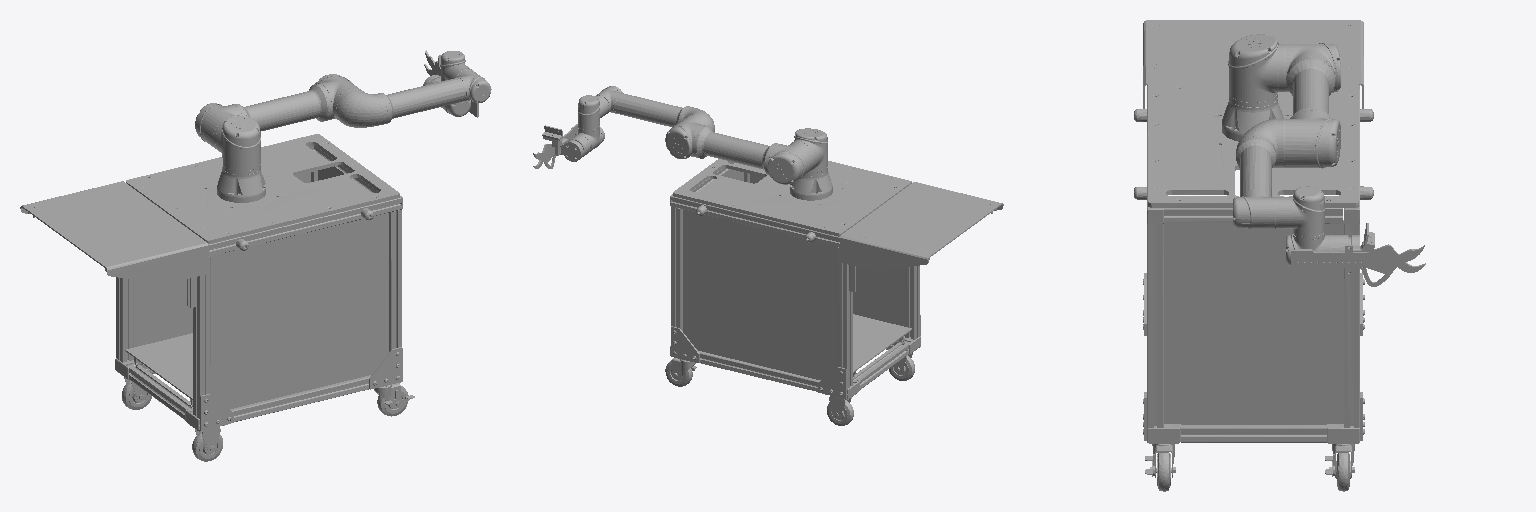
The robot description file, URDF, robot "ur5e":
<?xml version="1.0" ?>
<!-- =================================================================================== -->
<!-- |    This document was autogenerated by xacro from [local-path]/catkin_ws/src/fmauch_universal_robot/ur_e_description/urdf/ur5e_robot.urdf.xacro | -->
<!-- |    EDITING THIS FILE BY HAND IS NOT RECOMMENDED                                 | -->
<!-- =================================================================================== -->
<robot name="ur5e" xmlns:xacro="http://ros.org/wiki/xacro">
  <gazebo>
    <plugin filename="libgazebo_ros_control.so" name="ros_control">
      <!--robotNamespace>/</robotNamespace-->
      <!--robotSimType>gazebo_ros_control/DefaultRobotHWSim</robotSimType-->
    </plugin>
    <!--
    <plugin name="gazebo_ros_power_monitor_controller" filename="libgazebo_ros_power_monitor.so">
      <alwaysOn>true</alwaysOn>
      <updateRate>1.0</updateRate>
      <timeout>5</timeout>
      <powerStateTopic>power_state</powerStateTopic>
      <powerStateRate>10.0</powerStateRate>
      <fullChargeCapacity>87.78</fullChargeCapacity>
      <dischargeRate>-474</dischargeRate>
      <chargeRate>525</chargeRate>
      <dischargeVoltage>15.52</dischargeVoltage>
      <chargeVoltage>16.41</chargeVoltage>
    </plugin>
-->
  </gazebo>
  <!-- measured from model -->
  <!-- link lengths used in model -->
  <!-- manually measured -->
  <link name="mount_base"/>
  <joint name="y_gantry" type="fixed">
    <parent link="mount_base"/>
    <child link="mount"/>
    <origin rpy="0.0 0.0 0.0" xyz="0.0 0.0 0.0"/>
    <axis xyz="0 1 0"/>
    <limit effort="330.0" lower="-0.25" upper="0.25" velocity="0.2"/>
    <dynamics damping="0.0" friction="0.0"/>
  </joint>
  <link name="mount">
    <visual>
<!--	  <origin rpy="0.0 0.0 0.0" xyz="-0.02 0.0 0.0"/>-->
	  <origin rpy="0.0 0.0 0.0" xyz="0 0.0 0.0"/>
      <geometry>
        <mesh filename="ur5e/visual/robot_cart.obj"/>
      </geometry>
      <material name="LightGrey">
        <color rgba="0.7 0.7 0.7 1.0"/>
      </material>
      <material name="LightGrey">
        <color rgba="0.7 0.7 0.7 1.0"/>
      </material>
    </visual>
    <collision>
<!--	  <origin rpy="0.0 0.0 0.0" xyz="-0.02 0.0 0.0"/>-->
	  <origin rpy="0.0 0.0 0.0" xyz="0 0.0 -0.3786"/>
      <geometry>
<!--        <box size="0.04 0.5 0.5"/>-->
        <box size="0.5 0.5 0.75711"/>
      </geometry>
    </collision>
    <inertial>
      <mass value="4.0"/>
      <origin rpy="0 0 0" xyz="0.0 0.0 0.0"/>
      <inertia ixx="0.006106" ixy="0.0" ixz="0.0" iyy="0.006106" iyz="0.0" izz="0.01125"/>
    </inertial>
  </link>
  <joint name="mount_base_joint" type="fixed">
    <parent link="mount"/>
    <child link="base_link"/>
<!--    <origin rpy="0.0 1.570796 0.0" xyz="0.0 0.0 0.0"/>-->
    <origin rpy="0.0 0.0 -1.5708" xyz="0.0 0.0 0.0"/>
    <axis xyz="0 0 1"/>
  </joint>
  <link name="base_link">
    <visual>
      <origin rpy="0 0 3.14159265359" xyz="0 0 0"/>
      <geometry>
        <mesh filename="ur5e/visual/base.dae"/>
      </geometry>
      <material name="LightGrey">
        <color rgba="0.7 0.7 0.7 1.0"/>
      </material>
    </visual>
    <collision>
      <origin rpy="0 0 3.14159265359" xyz="0 0 0"/>
      <geometry>
        <mesh filename="ur5e/collision/base.stl"/>
      </geometry>
    </collision>
    <inertial>
      <mass value="4.0"/>
      <origin rpy="0 0 0" xyz="0.0 0.0 0.0"/>
      <inertia ixx="0.00443333156" ixy="0.0" ixz="0.0" iyy="0.00443333156" iyz="0.0" izz="0.0072"/>
    </inertial>
  </link>
  <joint name="shoulder_pan_joint" type="revolute">
    <parent link="base_link"/>
    <child link="shoulder_link"/>
    <origin rpy="0 0 3.14159265774" xyz="0 0 0.162509611124"/>
    <axis xyz="0 0 1"/>
    <limit effort="150.0" lower="-6.28318530718" upper="6.28318530718" velocity="3.14"/>
    <dynamics damping="0.0" friction="0.0"/>
  </joint>
  <link name="shoulder_link">
    <visual>
      <origin rpy="0 0 3.14159265359" xyz="0 0 0"/>
      <geometry>
        <mesh filename="ur5e/visual/shoulder.dae"/>
      </geometry>
      <material name="LightGrey">
        <color rgba="0.7 0.7 0.7 1.0"/>
      </material>
    </visual>
    <collision>
      <origin rpy="0 0 3.14159265359" xyz="0 0 0"/>
      <geometry>
        <mesh filename="ur5e/collision/shoulder.stl"/>
      </geometry>
    </collision>
    <inertial>
      <mass value="3.7"/>
      <origin rpy="0 0 0" xyz="0.0 0.0 0.0"/>
      <inertia ixx="0.010267495893" ixy="0.0" ixz="0.0" iyy="0.010267495893" iyz="0.0" izz="0.00666"/>
    </inertial>
  </link>
  <joint name="shoulder_lift_joint" type="revolute">
    <parent link="shoulder_link"/>
    <child link="upper_arm_link"/>
    <origin rpy="1.57201212277 0 -4.22293331334e-06" xyz="0.000175875481034 0 0"/>
    <axis xyz="0 0 1"/>
    <limit effort="150.0" lower="-6.28318530718" upper="6.28318530718" velocity="3.14"/>
    <dynamics damping="0.0" friction="0.0"/>
  </joint>
  <link name="upper_arm_link">
    <visual>
      <origin rpy="1.57079632679 0 -1.57079632679" xyz="0 0 0.138"/>
      <geometry>
        <mesh filename="ur5e/visual/upperarm.dae"/>
      </geometry>
      <material name="LightGrey">
        <color rgba="0.7 0.7 0.7 1.0"/>
      </material>
    </visual>
    <collision>
      <origin rpy="1.57079632679 0 -1.57079632679" xyz="0 0 0.138"/>
      <geometry>
        <mesh filename="ur5e/collision/upperarm.stl"/>
      </geometry>
    </collision>
    <inertial>
      <mass value="8.393"/>
      <origin rpy="0 1.57079632679 0" xyz="-0.212641211079 0.0 0.138"/>
      <inertia ixx="0.138302693282" ixy="0.0" ixz="0.0" iyy="0.138302693282" iyz="0.0" izz="0.0236053125"/>
    </inertial>
  </link>
  <joint name="elbow_joint" type="revolute">
    <parent link="upper_arm_link"/>
    <child link="forearm_link"/>
    <origin rpy="3.14087106174 3.14130791395 -3.1415908958" xyz="-0.425282422158 0 0"/>
    <axis xyz="0 0 1"/>
    <limit effort="150.0" lower="-3.14159265359" upper="3.14159265359" velocity="3.14"/>
    <dynamics damping="0.0" friction="0.0"/>
  </joint>
  <link name="forearm_link">
    <visual>
      <origin rpy="1.57079632679 0 -1.57079632679" xyz="0 0 0.007"/>
      <geometry>
        <mesh filename="ur5e/visual/forearm.dae"/>
      </geometry>
      <material name="LightGrey">
        <color rgba="0.7 0.7 0.7 1.0"/>
      </material>
    </visual>
    <collision>
      <origin rpy="1.57079632679 0 -1.57079632679" xyz="0 0 0.007"/>
      <geometry>
        <mesh filename="ur5e/collision/forearm.stl"/>
      </geometry>
    </collision>
    <inertial>
      <mass value="2.275"/>
      <origin rpy="0 1.57079632679 0" xyz="-0.212641211079 0.0 0.007"/>
      <inertia ixx="0.032394493594" ixy="0.0" ixz="0.0" iyy="0.032394493594" iyz="0.0" izz="0.0063984375"/>
    </inertial>
  </link>
  <joint name="wrist_1_joint" type="revolute">
    <parent link="forearm_link"/>
    <child link="wrist_1_link"/>
    <origin rpy="3.13857728923 -3.14158422042 3.14159213673" xyz="-0.392424671078 0.000403177258085 0.13370723674"/>
    <axis xyz="0 0 1"/>
    <limit effort="28.0" lower="-6.28318530718" upper="6.28318530718" velocity="6.28"/>
    <dynamics damping="0.0" friction="0.0"/>
  </joint>
  <link name="wrist_1_link">
    <visual>
      <origin rpy="1.57079632679 0 0" xyz="0 0 -0.127"/>
      <geometry>
        <mesh filename="ur5e/visual/wrist1.dae"/>
      </geometry>
      <material name="LightGrey">
        <color rgba="0.7 0.7 0.7 1.0"/>
      </material>
    </visual>
    <collision>
      <origin rpy="1.57079632679 0 0" xyz="0 0 -0.127"/>
      <geometry>
        <mesh filename="ur5e/collision/wrist1.stl"/>
      </geometry>
    </collision>
    <inertial>
      <mass value="1.219"/>
      <origin rpy="0 0 0" xyz="0.0 0.0 0.0"/>
      <inertia ixx="0.00272544945219" ixy="0.0" ixz="0.0" iyy="0.00272544945219" iyz="0.0" izz="0.0034284375"/>
    </inertial>
  </link>
  <joint name="wrist_2_joint" type="revolute">
    <parent link="wrist_1_link"/>
    <child link="wrist_2_link"/>
    <origin rpy="1.57047823229 0 -1.22657964634e-06" xyz="-3.59538768323e-05 -0.0997732519853 3.17373243326e-05"/>
    <axis xyz="0 0 1"/>
    <limit effort="28.0" lower="-6.28318530718" upper="6.28318530718" velocity="6.28"/>
    <dynamics damping="0.0" friction="0.0"/>
  </joint>
  <link name="wrist_2_link">
    <visual>
      <origin rpy="0 0 0" xyz="0 0 -0.0997"/>
      <geometry>
        <mesh filename="ur5e/visual/wrist2.dae"/>
      </geometry>
      <material name="LightGrey">
        <color rgba="0.7 0.7 0.7 1.0"/>
      </material>
    </visual>
    <collision>
      <origin rpy="0 0 0" xyz="0 0 -0.0997"/>
      <geometry>
        <mesh filename="ur5e/collision/wrist2.stl"/>
      </geometry>
    </collision>
    <inertial>
      <mass value="1.219"/>
      <origin rpy="0 0 0" xyz="0.0 0.0 0.0"/>
      <inertia ixx="0.00271885242747" ixy="0.0" ixz="0.0" iyy="0.00271885242747" iyz="0.0" izz="0.0034284375"/>
    </inertial>
  </link>
  <joint name="wrist_3_joint" type="revolute">
    <parent link="wrist_2_link"/>
    <child link="wrist_3_link"/>
    <origin rpy="1.57172710837 3.14159265359 3.14159251741" xyz="5.59741171522e-05 0.0994472713895 9.25637146449e-05"/>
    <axis xyz="0 0 1"/>
    <limit effort="28.0" lower="-6.28318530718" upper="6.28318530718" velocity="6.28"/>
    <dynamics damping="0.0" friction="0.0"/>
  </joint>
  <link name="wrist_3_link">
    <visual>
      <origin rpy="1.57079632679 0 0" xyz="0 0 -0.0989"/>
      <geometry>
        <mesh filename="ur5e/visual/wrist3.dae"/>
      </geometry>
      <material name="LightGrey">
        <color rgba="0.7 0.7 0.7 1.0"/>
      </material>
    </visual>
    <collision>
      <origin rpy="1.57079632679 0 0" xyz="0 0 -0.0989"/>
      <geometry>
        <mesh filename="ur5e/collision/wrist3.stl"/>
      </geometry>
    </collision>
    <inertial>
      <mass value="0.1879"/>
      <origin rpy="0 0 0" xyz="0.0 0.0 -0.025"/>
      <inertia ixx="0.000134270154625" ixy="0.0" ixz="0.0" iyy="0.000134270154625" iyz="0.0" izz="0.00019024875"/>
    </inertial>
  </link>
  <joint name="ee_fixed_joint" type="fixed">
    <parent link="wrist_3_link"/>
    <child link="ee_link"/>
    <origin rpy="0.0 -1.57079632679 1.57079632679" xyz="0.0 0.0 0.0"/>
  </joint>
  <link name="ee_link">
    <collision>
      <geometry>
        <box size="0.01 0.01 0.01"/>
      </geometry>
      <origin rpy="0 0 0" xyz="-0.01 0 0"/>
    </collision>
  </link>
  <transmission name="shoulder_pan_trans">
    <type>transmission_interface/SimpleTransmission</type>
    <joint name="shoulder_pan_joint">
      <hardwareInterface>hardware_interface/PositionJointInterface</hardwareInterface>
    </joint>
    <actuator name="shoulder_pan_motor">
      <mechanicalReduction>1</mechanicalReduction>
    </actuator>
  </transmission>
  <transmission name="shoulder_lift_trans">
    <type>transmission_interface/SimpleTransmission</type>
    <joint name="shoulder_lift_joint">
      <hardwareInterface>hardware_interface/PositionJointInterface</hardwareInterface>
    </joint>
    <actuator name="shoulder_lift_motor">
      <mechanicalReduction>1</mechanicalReduction>
    </actuator>
  </transmission>
  <transmission name="elbow_trans">
    <type>transmission_interface/SimpleTransmission</type>
    <joint name="elbow_joint">
      <hardwareInterface>hardware_interface/PositionJointInterface</hardwareInterface>
    </joint>
    <actuator name="elbow_motor">
      <mechanicalReduction>1</mechanicalReduction>
    </actuator>
  </transmission>
  <transmission name="wrist_1_trans">
    <type>transmission_interface/SimpleTransmission</type>
    <joint name="wrist_1_joint">
      <hardwareInterface>hardware_interface/PositionJointInterface</hardwareInterface>
    </joint>
    <actuator name="wrist_1_motor">
      <mechanicalReduction>1</mechanicalReduction>
    </actuator>
  </transmission>
  <transmission name="wrist_2_trans">
    <type>transmission_interface/SimpleTransmission</type>
    <joint name="wrist_2_joint">
      <hardwareInterface>hardware_interface/PositionJointInterface</hardwareInterface>
    </joint>
    <actuator name="wrist_2_motor">
      <mechanicalReduction>1</mechanicalReduction>
    </actuator>
  </transmission>
  <transmission name="wrist_3_trans">
    <type>transmission_interface/SimpleTransmission</type>
    <joint name="wrist_3_joint">
      <hardwareInterface>hardware_interface/PositionJointInterface</hardwareInterface>
    </joint>
    <actuator name="wrist_3_motor">
      <mechanicalReduction>1</mechanicalReduction>
    </actuator>
  </transmission>

  <!-- ROS base_link to UR 'Base' Coordinates transform -->
  <link name="base"/>
  <joint name="base_link-base_fixed_joint" type="fixed">
    <!-- NOTE: this rotation is only needed as long as base_link itself is
                 not corrected wrt the real robot (ie: rotated over 180
                 degrees)
      -->
    <origin rpy="0 0 -3.14159265359" xyz="0 0 0"/>
    <parent link="base_link"/>
    <child link="base"/>
  </joint>
  <!-- Frame coincident with all-zeros TCP on UR controller -->
  <link name="tool0"/>
  <joint name="wrist_3_link-tool0_fixed_joint" type="fixed">
    <origin rpy="0 0 0" xyz="0 0 0"/>
    <parent link="wrist_3_link"/>
    <child link="tool0"/>
  </joint>

  <link name="cutter">
    <visual>
      <origin rpy="0 0 0" xyz="0 0 0.0"/>
      <geometry>
        <mesh filename="ur5e/visual/cutter_top_mount.obj" scale="1.0 1.0 1.0 "/>
      </geometry>
      <material name="LightGrey" />
    </visual>

     <collision>
      <origin rpy="0 0 0" xyz="0 0 0"/>
      <geometry>
        <mesh filename="ur5e/collision/cutter_top_mount.obj" scale="1.0 1.0 1.0"/>
      </geometry>
    </collision>

    <inertial>
      <origin rpy="0 0 0" xyz="1.0E-08 1.0E-08 1.0E-08"/>
      <mass value="1.0E-08"/>
      <inertia ixx="1.0E-08" ixy="1.0E-08" ixz="1.0E-08" iyy="1.0E-08" iyz="1.0E-08" izz="1.0E-08"/>
    </inertial>
  </link>
  <joint name="cutter" type="fixed">
      <origin rpy="0 0 0" xyz="0 0 0"/>
    <axis xyz="0 0 1"/>
    <parent link="tool0"/>
    <child link="cutter"/>
  </joint>
  <link name="endpoint">
    <visual>
      <origin rpy="0 0 0" xyz="0 0 0"/>
      <geometry>
        <sphere radius="0.00001" />
      </geometry>
      <material name="red">
        <color rgba="1 0 0 0" />
      </material>
    </visual>
  </link>
  <joint name="endpoint" type="fixed">
<!--    <origin rpy="0 0 0" xyz="0 0.09721 0.24210"/>  &lt;!&ndash; Left down out &ndash;&gt;-->
<!--    <origin rpy="0 0 0" xyz="-0.00425 0.08971 0.24210"/> &lt;!&ndash;USE THIS ONE IF THE IK FOR BELOW DOESNT DO BETTER&ndash;&gt;-->
    <origin rpy="0 0 0" xyz="-0.063175 0 0.12864"/>
<!--    <origin rpy="0 0 3.14159" xyz="-0.09425 -0.00511 0.09707"/>-->

    <axis xyz="0 0 1"/>
    <parent link="cutter"/>
    <child link="endpoint"/>
  </joint>
  <link name="cutpoint">
    <visual>
      <origin rpy="0 0 0" xyz="0.0 0.0 0.0"/>
      <geometry>
        <sphere radius="0.000001" />
      </geometry>
      <material name="green">
        <color rgba="0 1 0 0" />
      </material>
    </visual>
  </link>
  <joint name="cutpoint" type="fixed">
    <origin rpy="0 0 0" xyz="0 0 0"/>  <!-- Left down out -->
    <parent link="endpoint"/>
    <child link="cutpoint"/>
  </joint>
<!--  <link name="cutter_mouth">-->
<!--    <visual>-->
<!--      <origin rpy="0 0 3.1416" xyz="0.0 0.0 0.0"/>-->
<!--      <geometry>-->
<!--        <mesh filename="ur5e/collision/cutter-mouth-collision.stl"/>-->
<!--      </geometry>-->
<!--      <material name="green">-->
<!--        <color rgba="0 1 0 1" />-->
<!--      </material>-->
<!--    </visual>-->
<!--  </link>-->
<!--  <joint name="cutter_mouth" type="fixed">-->
<!--    <origin rpy="0 0 0" xyz="0 0 0"/>  &lt;!&ndash; Left down out &ndash;&gt;-->
<!--    <parent link="cutpoint"/>-->
<!--    <child link="cutter_mouth"/>-->
<!--  </joint>-->


<!--  <link name="cutter_obst">-->
<!--    <collision>-->
<!--      <origin rpy="0 0 0" xyz="-0.008 -0.13 -0.28"/>-->
<!--      <geometry>-->
<!--        <box size="0.1 0.145 0.15"/>-->
<!--      </geometry>-->
<!--    </collision>-->
<!--    <inertial>-->
<!--      <origin rpy="0 0 0" xyz="1.0E-08 1.0E-08 1.0E-08"/>-->
<!--      <mass value="1.0E-08"/>-->
<!--      <inertia ixx="1.0E-08" ixy="1.0E-08" ixz="1.0E-08" iyy="1.0E-08" iyz="1.0E-08" izz="1.0E-08"/>-->
<!--    </inertial>-->
<!--  </link>-->
<!--  <joint name="cutter_obst" type="fixed">-->
<!--      <origin rpy="0 0 0" xyz="0 0.093 0.213"/>-->
<!--    <axis xyz="0 0 1"/>-->
<!--    <parent link="tool0"/>-->
<!--    <child link="cutter_obst"/>-->
<!--  </joint>-->
  <link name="world"/>
  <joint name="world_joint" type="fixed">
    <parent link="world"/>
    <child link="mount_base"/>
    <origin rpy="0.0 0.0 1.5708" xyz="0.0 0.0 0.75711"/>
  </joint>
</robot>

--- What the picture shows (computed from the rendered views, not written in the file) ---
The picture shows the robot from 3 angles, left to right: view 1: azimuth 30°, elevation 25°; view 2: azimuth 150°, elevation 25°; view 3: azimuth 270°, elevation 25°; orthographic projection.
Robot: ur5e — 16 links, 15 joints (6 revolute, 9 fixed); root link world; default pose: all joints at 0.
Visible links, largest first — view 1: mount, forearm_link, upper_arm_link, shoulder_link, base_link, wrist_1_link; view 2: mount, upper_arm_link, forearm_link, cutter, base_link, wrist_1_link, shoulder_link; view 3: mount, upper_arm_link, forearm_link, cutter, shoulder_link, wrist_1_link, base_link, wrist_2_link.
Link boxes in pixels (x1,y1,x2,y2): mount: (20, 134, 414, 461); forearm_link: (336, 68, 491, 127); upper_arm_link: (195, 74, 360, 148); shoulder_link: (213, 115, 260, 170); base_link: (217, 164, 265, 202); wrist_1_link: (440, 51, 471, 80); mount: (665, 159, 1003, 425); upper_arm_link: (665, 114, 814, 184); forearm_link: (596, 86, 714, 131); cutter: (533, 124, 583, 168); base_link: (790, 167, 832, 200); wrist_1_link: (578, 95, 608, 131); shoulder_link: (792, 128, 827, 172); mount: (1134, 20, 1373, 491); upper_arm_link: (1279, 43, 1340, 168); forearm_link: (1233, 119, 1278, 228); cutter: (1291, 223, 1425, 286); shoulder_link: (1228, 34, 1284, 102); wrist_1_link: (1279, 186, 1325, 239); base_link: (1222, 93, 1283, 141); wrist_2_link: (1286, 234, 1331, 265).
Bounding box of the posed robot: 1.54 × 0.6971 × 0.9897 m (x, y, z).
9 mesh visuals loaded from 9 distinct referenced files (7 Collada DAE, 2 OBJ).
